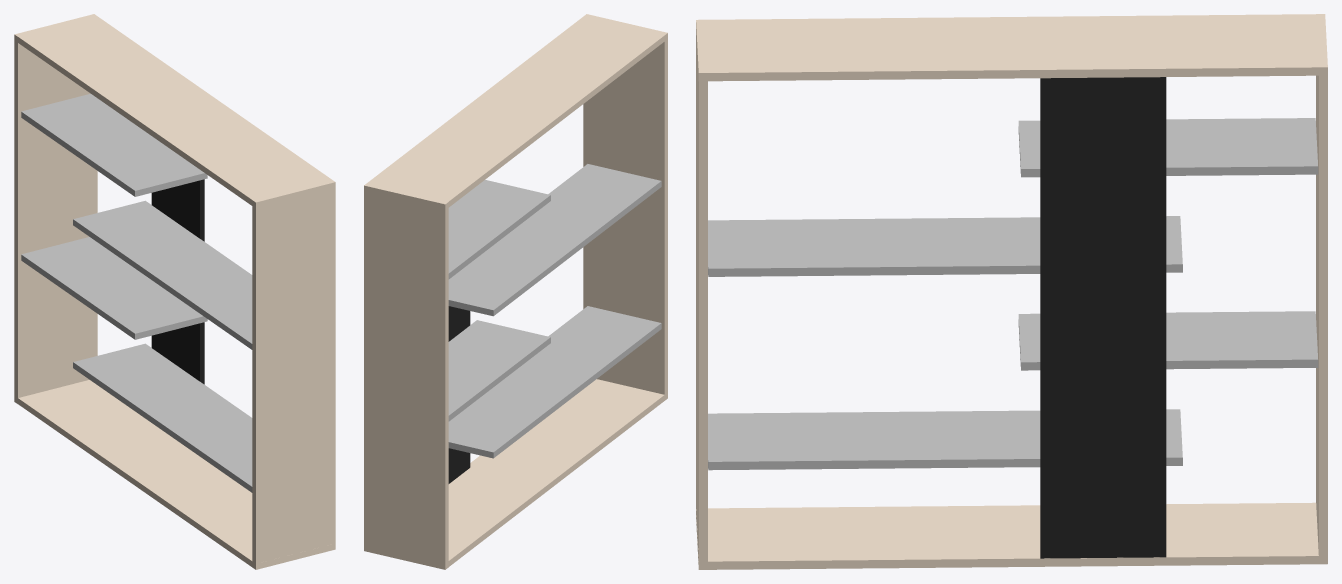
3 renders of one model, left to right at view 1: azimuth 30°, elevation 25°; view 2: azimuth 150°, elevation 25°; view 3: azimuth 270°, elevation 25°, orthographic. The views are drawn at different scales.
Parts seen in each view (by area): view 1: end, top, opposite_end, bottom, shelf.002, shelf, shelf.003, shelf.001, upright; view 2: opposite_end, end, top, bottom, shelf, shelf.002, shelf.001, shelf.003, upright; view 3: upright, top, bottom, shelf, shelf.002, shelf.003, shelf.001, end, opposite_end.
Boxes of the visible parts, x1,y1,x2,y2 form: end: [252, 188, 335, 569]; top: [15, 14, 335, 208]; opposite_end: [14, 34, 97, 403]; bottom: [18, 380, 335, 569]; shelf.002: [73, 200, 252, 349]; shelf: [73, 343, 252, 492]; shelf.003: [21, 93, 207, 196]; shelf.001: [21, 237, 207, 339]; upright: [151, 179, 204, 384]; opposite_end: [364, 185, 448, 569]; end: [583, 33, 667, 400]; top: [364, 14, 667, 207]; bottom: [448, 379, 664, 566]; shelf: [448, 306, 661, 458]; shelf.002: [448, 164, 661, 316]; shelf.001: [448, 320, 550, 421]; shelf.003: [448, 180, 550, 279]; upright: [448, 306, 470, 483]; upright: [1040, 77, 1166, 558]; top: [696, 14, 1327, 81]; bottom: [696, 502, 1327, 569]; shelf: [708, 409, 1182, 470]; shelf.002: [708, 216, 1182, 276]; shelf.003: [1018, 118, 1318, 177]; shelf.001: [1018, 311, 1318, 370]; end: [696, 19, 707, 561]; opposite_end: [1316, 14, 1327, 563].
Bounding box in the file's own units: 0.3996 × 1.57 × 1.81.
